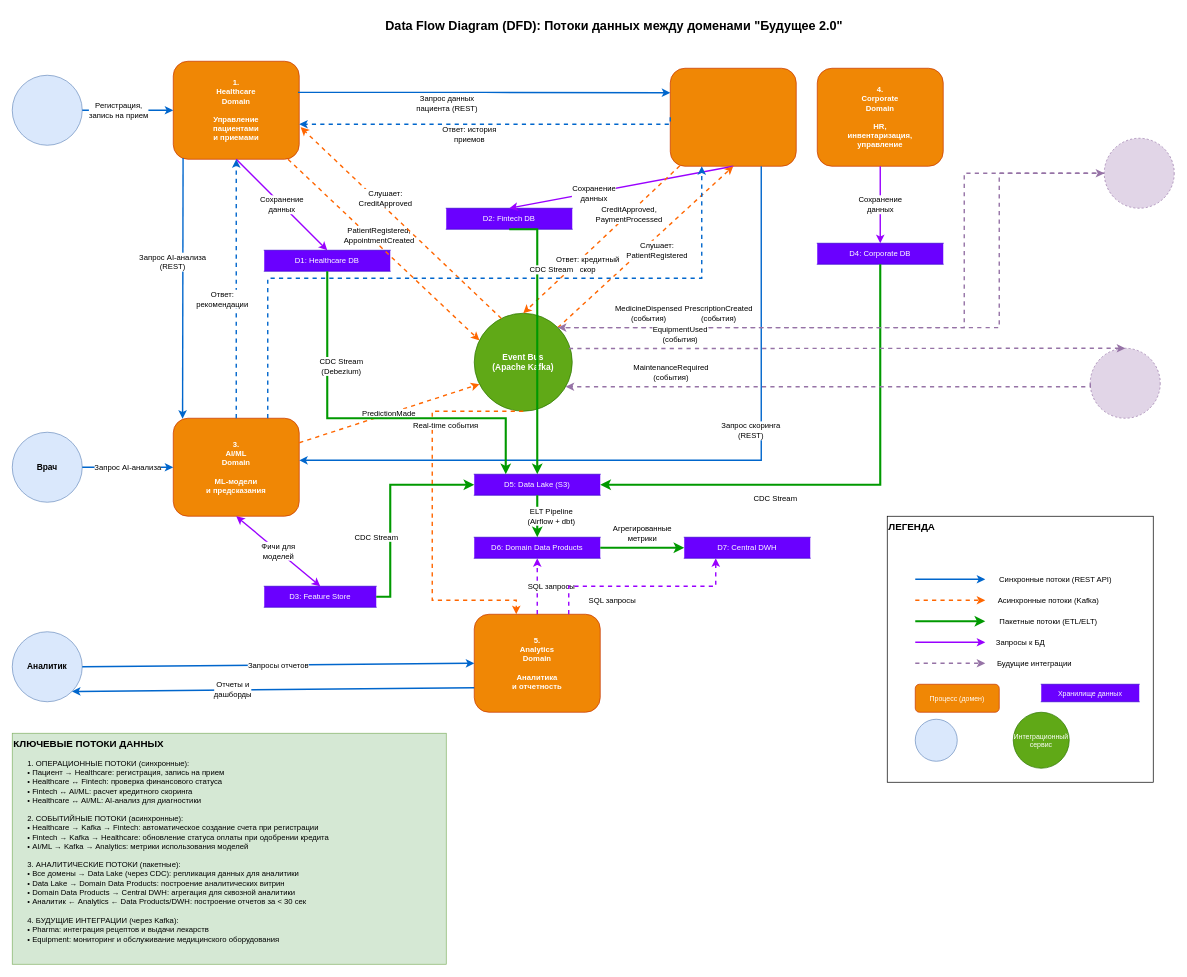
The diagram is 1187 pixels wide and 977 high, and some of its shapes have lost their labels. Here are the shapes that lost their labels. From the top down, the centre of each, then its label:
pixel 47 110: Пациент
pixel 733 117: 2. Fintech Domain Финансовые сервисы и кредиты
pixel 1139 173: Фарма-компания (будущее)
pixel 1125 383: Производитель-оборудования (будущее)
pixel 936 740: Внешняя сущность
